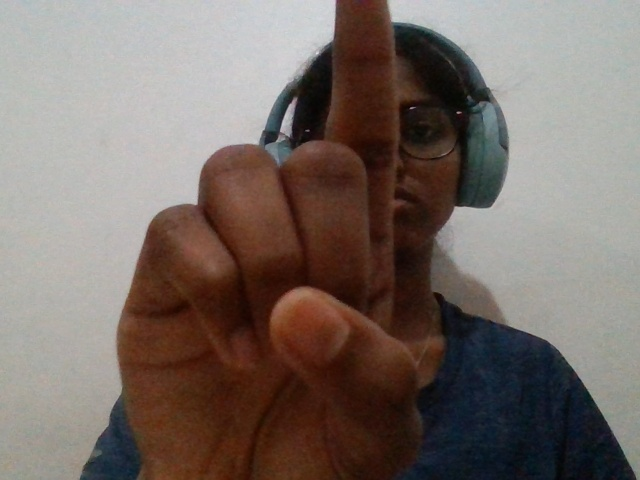D: (58, 5, 452, 480)
